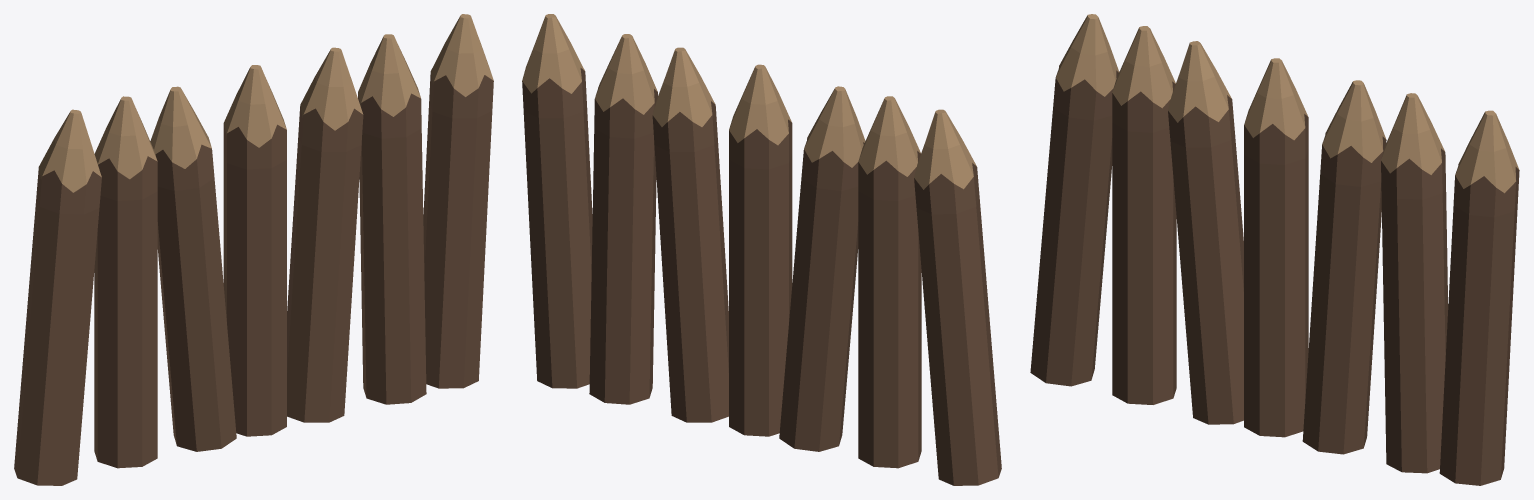
Rendered from PikeWall.fbx.
The picture shows the model from 3 angles, left to right: view 1: azimuth 30°, elevation 25°; view 2: azimuth 150°, elevation 25°; view 3: azimuth 330°, elevation 25°; orthographic projection.
Parts seen in each view (by area): view 1: Pike.006; view 2: Pike.006; view 3: Pike.006.
Boxes of the visible parts, x1,y1,x2,y2 form: Pike.006: (14, 14, 493, 485); Pike.006: (522, 14, 1001, 485); Pike.006: (1030, 14, 1519, 485).
Size of the model in its own units: 1668 by 1214 by 200.
